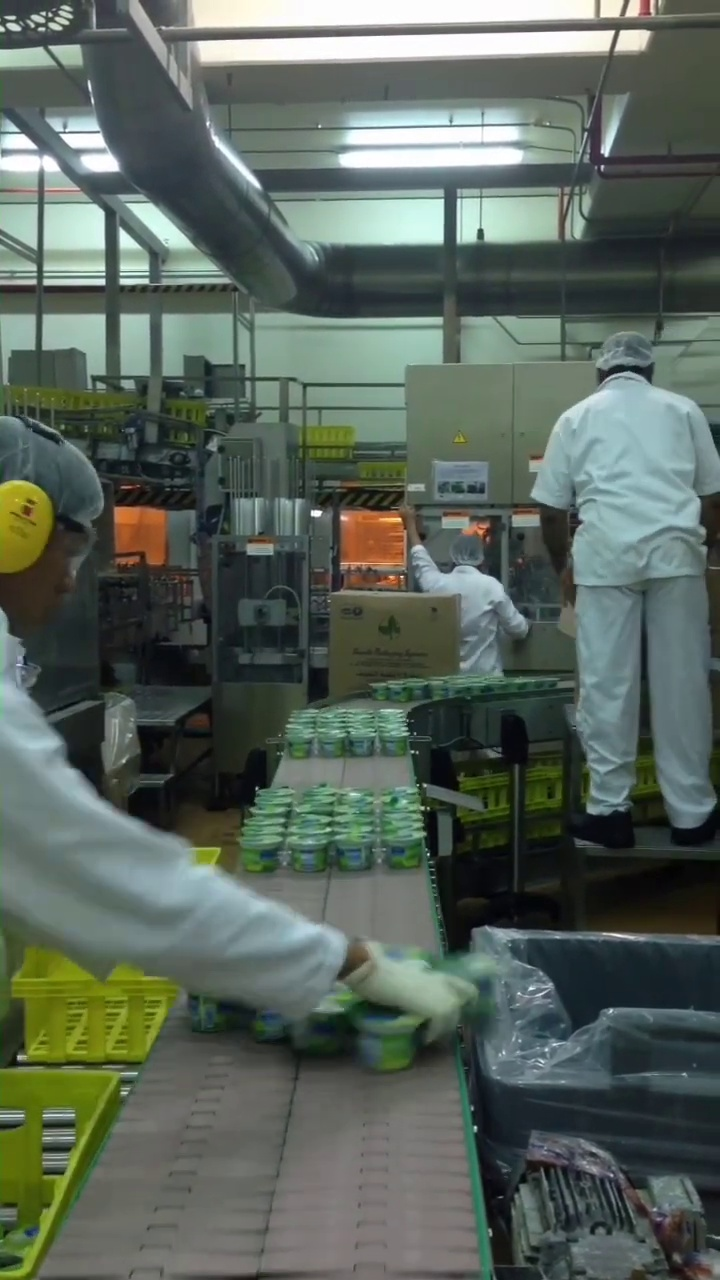employé: (545, 333, 718, 851), (0, 379, 139, 1007), (356, 469, 538, 661)
machine: (23, 660, 720, 1263)
produit: (186, 938, 503, 1049), (237, 784, 441, 897), (258, 698, 420, 762), (377, 674, 545, 700)
